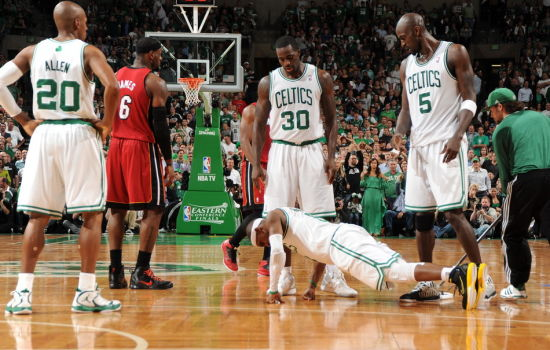10+: (3, 1, 546, 317)
down: (249, 203, 488, 319)
